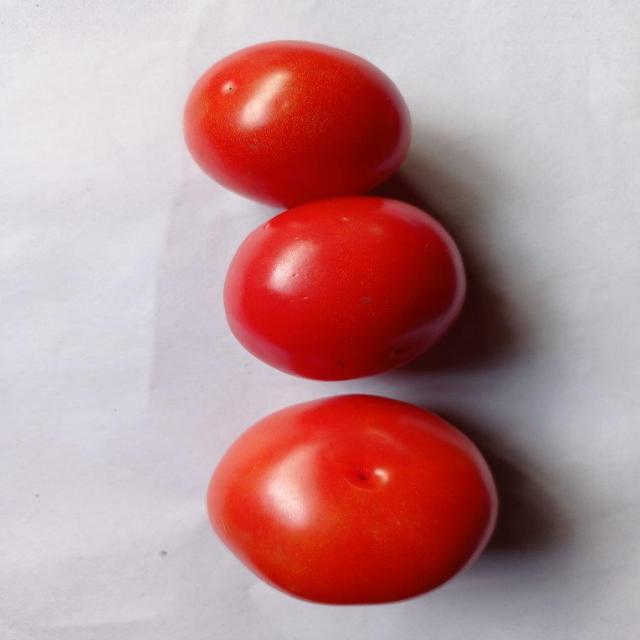Ripe: (200, 388, 508, 610), (220, 190, 474, 379), (178, 33, 416, 192)
